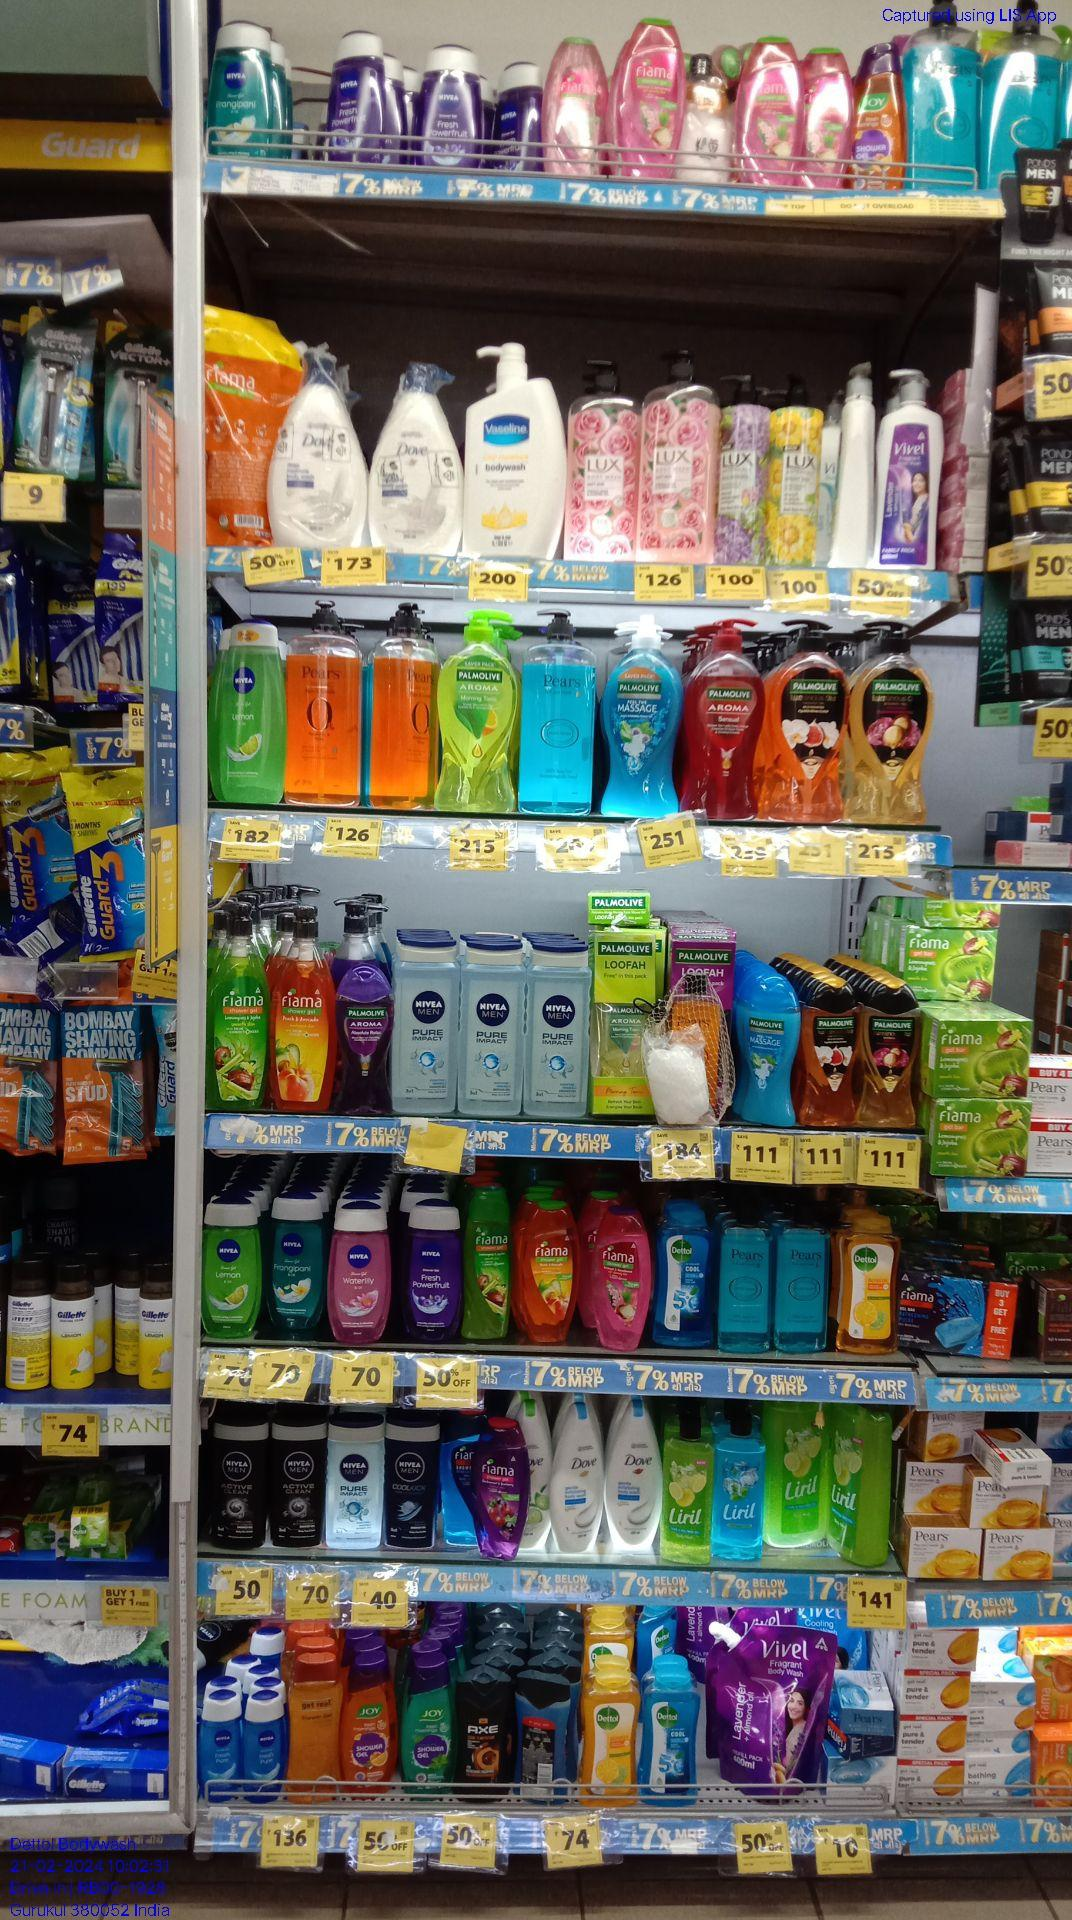Dettol_Bodywash_Cool: (641, 1667, 698, 1807), (657, 1212, 712, 1350)
Dettol_Bodywash_Refresh: (835, 1213, 897, 1353), (583, 1668, 638, 1807)
Dove_Gentle_Exfoliating_Body_Wash_250ML: (609, 1395, 662, 1545), (551, 1406, 605, 1552)
Fiama_Shower_Gel_Lemongrass_and_Jojoba_250ML: (464, 1192, 509, 1340)
Fiama_Shower_Gel_Patchouli_and_Macadamia_250ML: (589, 1204, 651, 1350)
Fiama_Shower_Gel_Peach_and_Avocado_250ML: (520, 1197, 575, 1345)
Get_Real_Shower_Gel_Moisturising_Glycerin_300ML: (289, 1656, 342, 1804)
Joy_Shower_Gel_Mandarin_and_Lemongrass_250ML: (854, 41, 902, 189), (345, 1660, 397, 1796)
Joy_Shower_Gel_Mint_and_Eucalyptus_250ML: (402, 1659, 455, 1807)
Liril_Cooling_Mint_Body_Wash_250ML: (713, 1407, 763, 1548)
Liril_Lime_and_Tea_Tree_Oil_Body_Wash_250ML: (665, 1416, 711, 1564)
Nivea_Shower_Gel_Frangipani_and_Oil_250ML: (208, 20, 273, 157), (270, 1203, 327, 1337)
Nivea_Shower_Gel_Fresh_Powerfruit_250ML: (414, 45, 480, 167), (326, 30, 385, 164), (409, 1195, 460, 1341)
Nivea_Shower_Gel_Lemon_and_Oil_250ML: (214, 618, 286, 803), (203, 1196, 264, 1337)
Nivea_Shower_Gel_Waterlily_and_Oil_250ML: (334, 1200, 390, 1346)
Palmolive_Aroma_Moments_Feel_The_Massage_Shower_Gel_250ML: (740, 972, 798, 1126)
Palmolive_Luminous_Oils_Invigorating_Macadamia_Oil_With_Peony_250ML: (862, 984, 915, 1129)
Palmolive_Luminous_Oils_With_White_Orchid_Shower_Gel_250ML: (803, 981, 854, 1127)
Pears_Pure_Glycerin_and_Mint_Extracts_Body_Wash_250ML: (774, 1197, 828, 1352), (720, 1205, 770, 1356)
